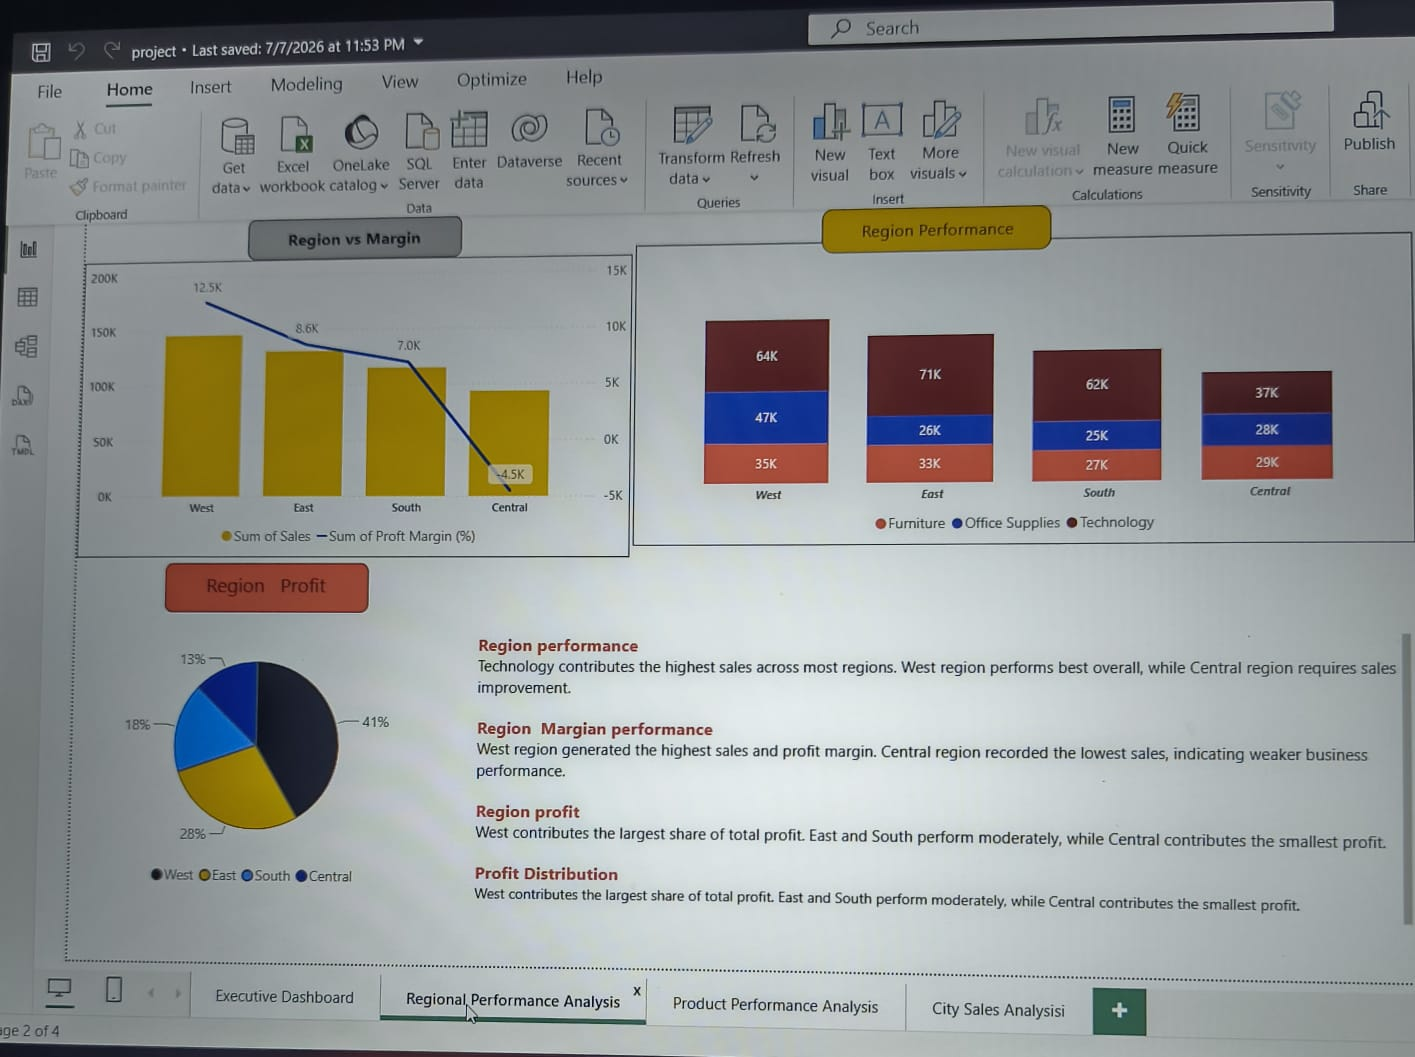

Layout of this report page (visuals, bound fields, positions):
{"tool":"powerbi","page":{"name":"Regional Performance Analysis","canvas":[1280,720],"ordinal":1},"visuals":[{"type":"textbox","box":[96.6,289.8,133.8,30.3],"z":0},{"type":"textbox","box":[106.6,299.8,133.8,30.3],"z":1000},{"type":"lineStackedColumnComboChart","fields":{"Category":["Orders.Region"],"Y":["Sum(Orders.Sales)","select1"],"Y2":["Sum(Orders.Proft Margin (%))"]},"box":[0,40,541,290],"z":2000},{"type":"columnChart","fields":{"Category":["Orders.Region"],"Series":["Orders.Category"],"Y":["Sum(Orders.Sales)"]},"box":[544,32,720,288],"z":3000},{"type":"pieChart","fields":{"Category":["Orders.Region"],"Y":["Sum(Orders.Profit)"]},"box":[13,398.7,337.7,257.1],"z":4000},{"type":"textbox","box":[89.6,336.4,200,48.1],"z":5000},{"type":"textbox","box":[351,423,335,297],"z":6000},{"type":"textbox","box":[164,0,211,40],"z":7000},{"type":"textbox","box":[721,0,214,42],"z":8000},{"type":"textbox","box":[391.1,398.9,873.3,321.1],"z":9000}]}

Visuals, with their boxes on the page's 1280x720 design canvas (x1, y1, x2, y2). These are canvas units, not pixel positions in the 1415x1057 screenshot, which may show the page scaled, cropped or inside an application window:
textbox: region(97, 290, 230, 320)
textbox: region(107, 300, 240, 330)
lineStackedColumnComboChart - Orders.Region x Sum(Orders.Sales): region(0, 40, 541, 330)
columnChart - Orders.Region x Orders.Category: region(544, 32, 1264, 320)
pieChart - Orders.Region x Sum(Orders.Profit): region(13, 399, 351, 656)
textbox: region(90, 336, 290, 384)
textbox: region(351, 423, 686, 720)
textbox: region(164, 0, 375, 40)
textbox: region(721, 0, 935, 42)
textbox: region(391, 399, 1264, 720)
